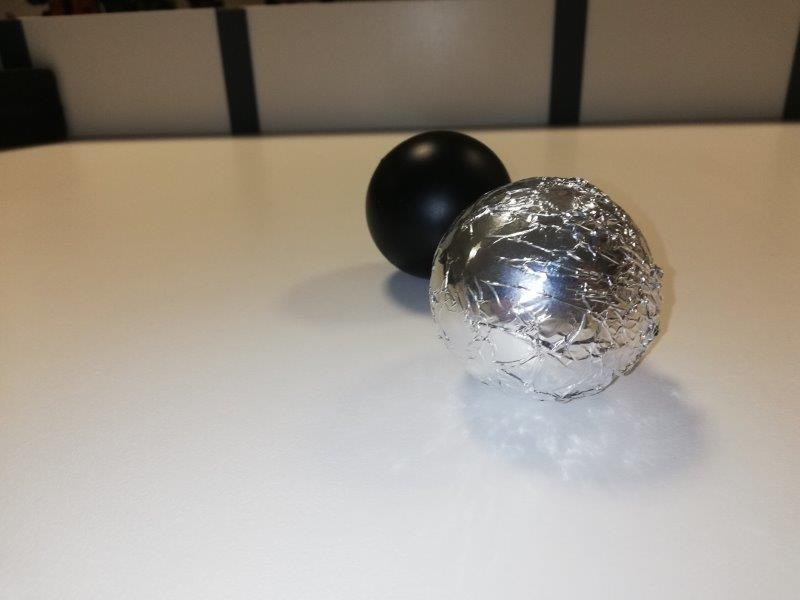bianca: (429, 177, 661, 403)
nera: (367, 130, 512, 280)
